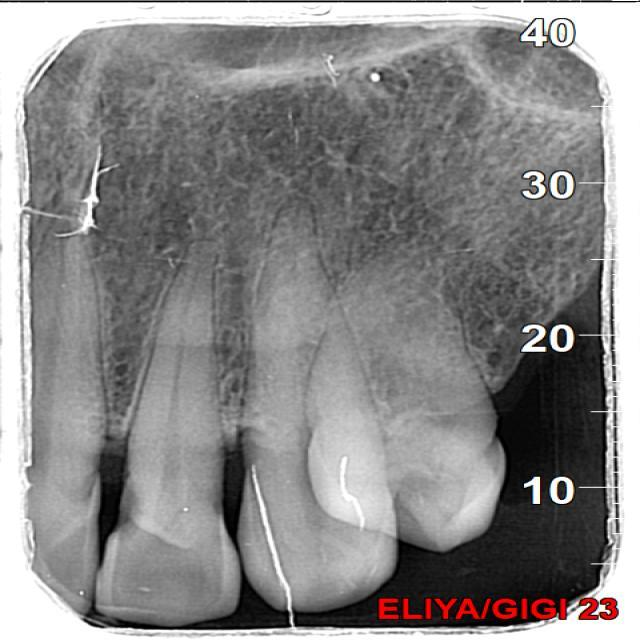individual-tooth-8tto: (239, 200, 402, 610), (80, 233, 246, 631), (307, 241, 499, 548)
